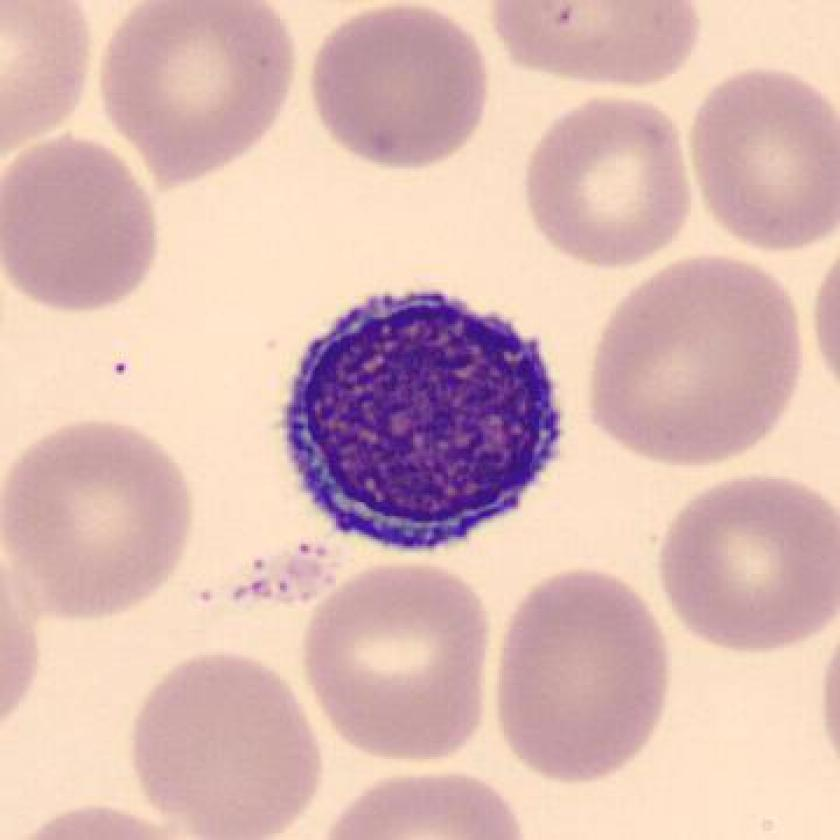lymphocyte: (270, 286, 585, 584)
